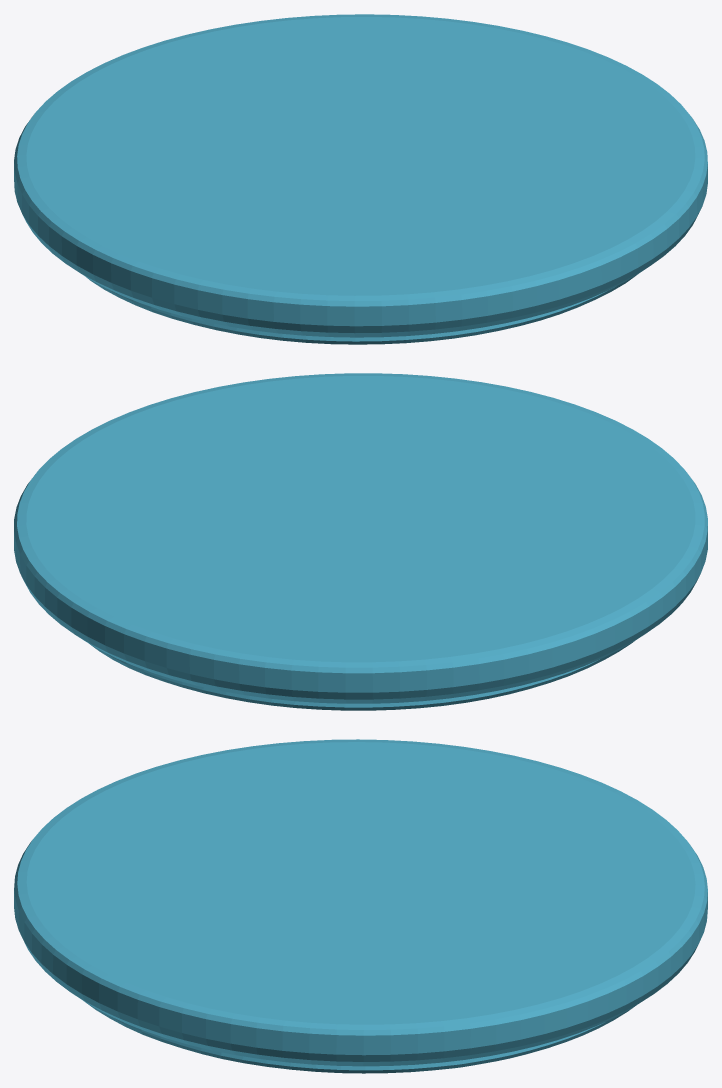
File: katara.obj
3 renders of one model, top to bottom at view 1: azimuth 30°, elevation 25°; view 2: azimuth 150°, elevation 25°; view 3: azimuth 270°, elevation 25°, orthographic.
Parts seen in each view (by area): view 1: obj_0; view 2: obj_0; view 3: obj_0.
Boxes of the visible parts, x1,y1,x2,y2 form: obj_0: (14,14,707,344); obj_0: (14,373,707,710); obj_0: (14,739,707,1073).
Bounding box in the file's own units: 634 × 94.99 × 635.
